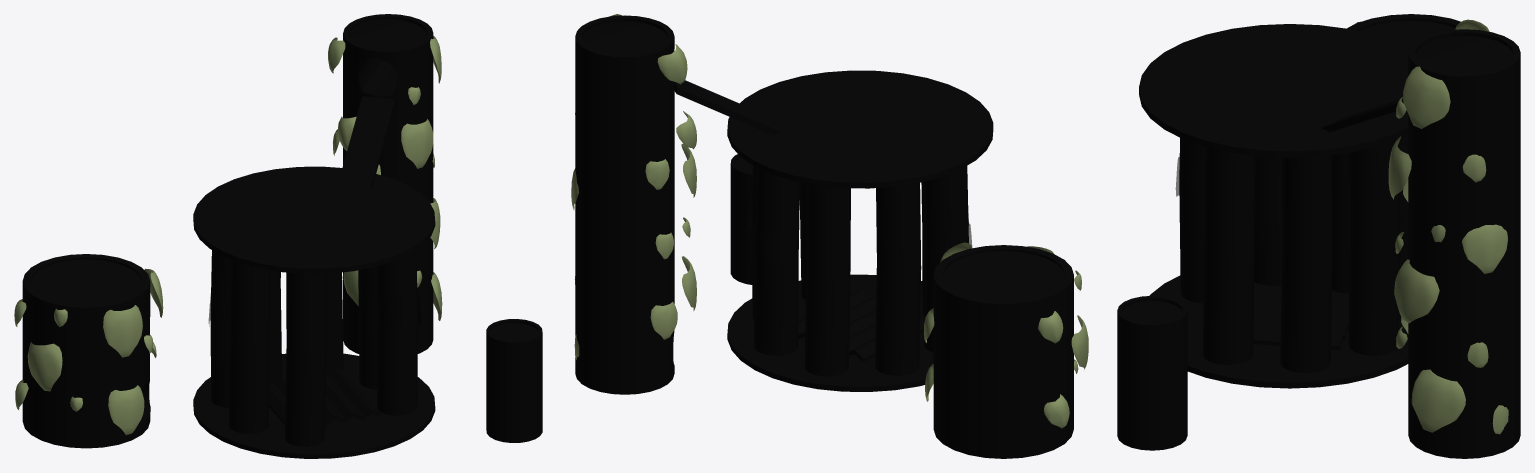
Rendered from CatTree.fbx.
3 views of the same model, side by side, from view 1: azimuth 30°, elevation 25°; view 2: azimuth 150°, elevation 25°; view 3: azimuth 270°, elevation 25° (orthographic). The views are drawn at different scales.
Visible parts, largest first — view 1: CatTreeModel; view 2: CatTreeModel; view 3: CatTreeModel.
Part boxes in pixels (x1=…): CatTreeModel: x1=14, y1=14, x2=542, y2=458; CatTreeModel: x1=571, y1=14, x2=1088, y2=458; CatTreeModel: x1=1117, y1=14, x2=1520, y2=458.
Size of the model in its own units: 439 by 304 by 287.
